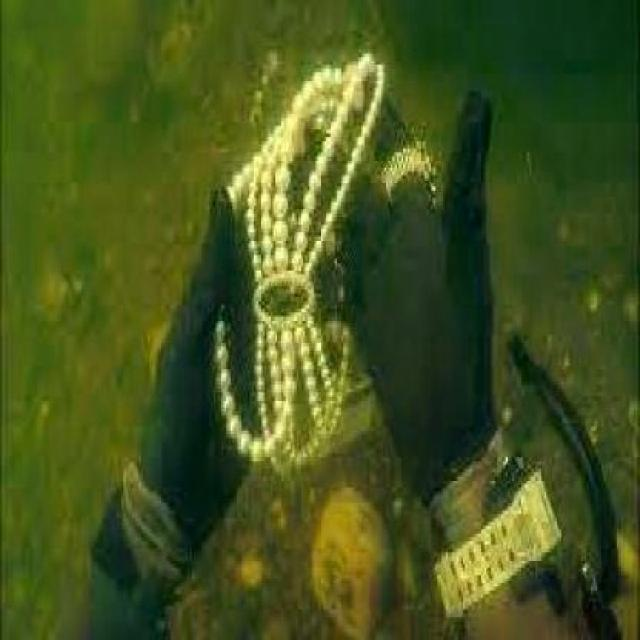misc: (220, 41, 388, 477)
